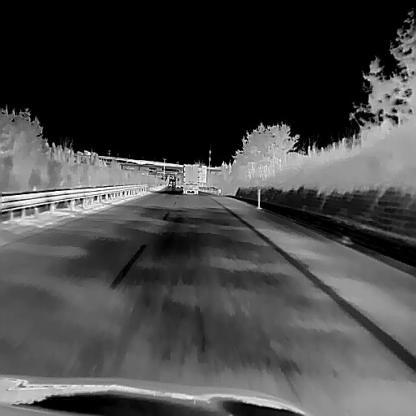car: (182, 163, 200, 194)
